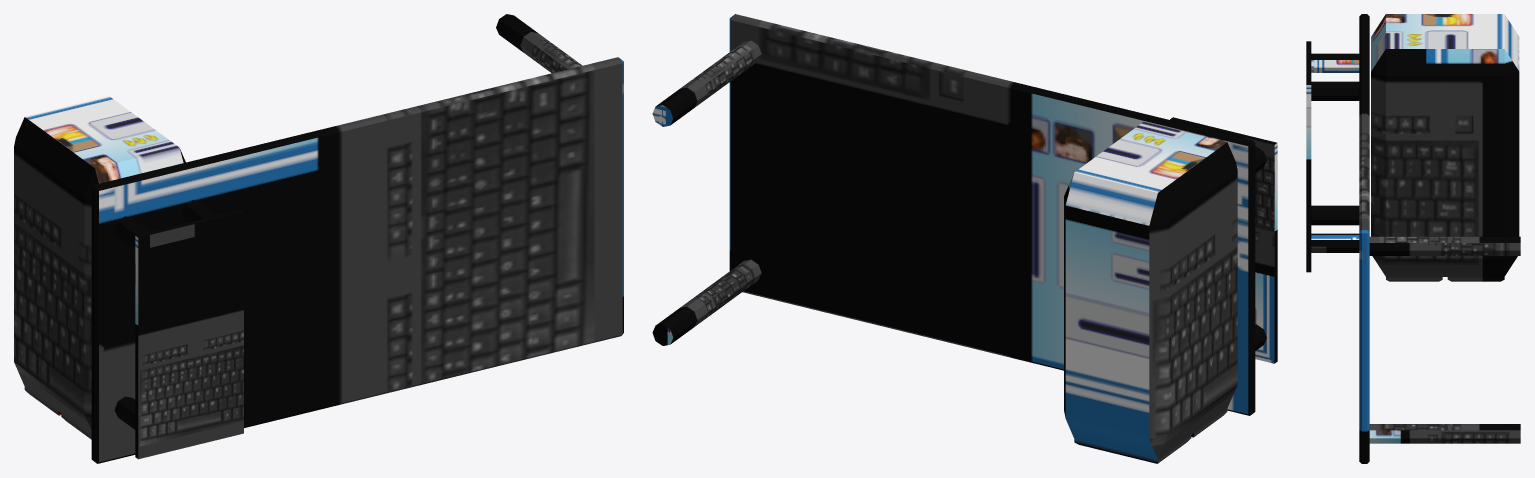
The model's file is Computerdesk01.fbx.
3 renders of one model, left to right at view 1: azimuth 30°, elevation 25°; view 2: azimuth 150°, elevation 25°; view 3: azimuth 270°, elevation 25°, orthographic. The views are drawn at different scales.
Parts seen in each view (by area): view 1: polySurface102, polySurface101, polySurface108; view 2: polySurface102, polySurface101, polySurface108; view 3: polySurface101, polySurface108, polySurface102.
Boxes of the visible parts, x1,y1,x2,y2 form: polySurface102: [91, 57, 623, 463]; polySurface101: [14, 96, 185, 439]; polySurface108: [114, 14, 582, 429]; polySurface102: [729, 14, 1277, 415]; polySurface101: [1064, 122, 1237, 463]; polySurface108: [652, 40, 1266, 350]; polySurface101: [1371, 14, 1519, 281]; polySurface108: [1311, 53, 1520, 443]; polySurface102: [1306, 14, 1369, 463].
Size of the model in its own units: 200 by 102 by 83.08.
